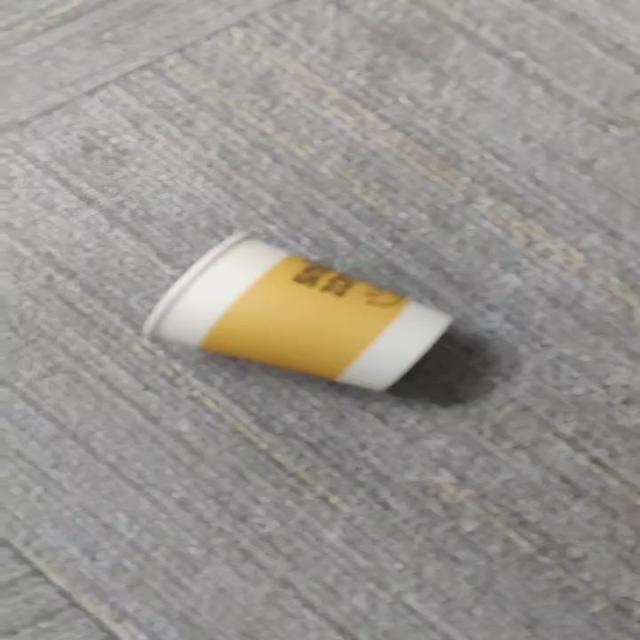dixie_cup: (143, 234, 452, 391)
